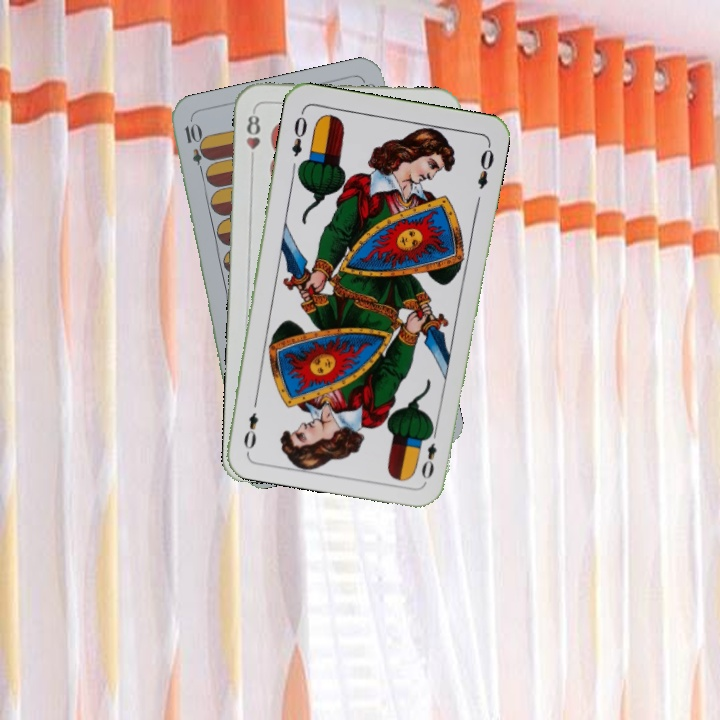E10: (180, 120, 209, 179)
EO: (417, 424, 440, 482), (287, 107, 310, 159)
H8: (242, 107, 263, 166)
